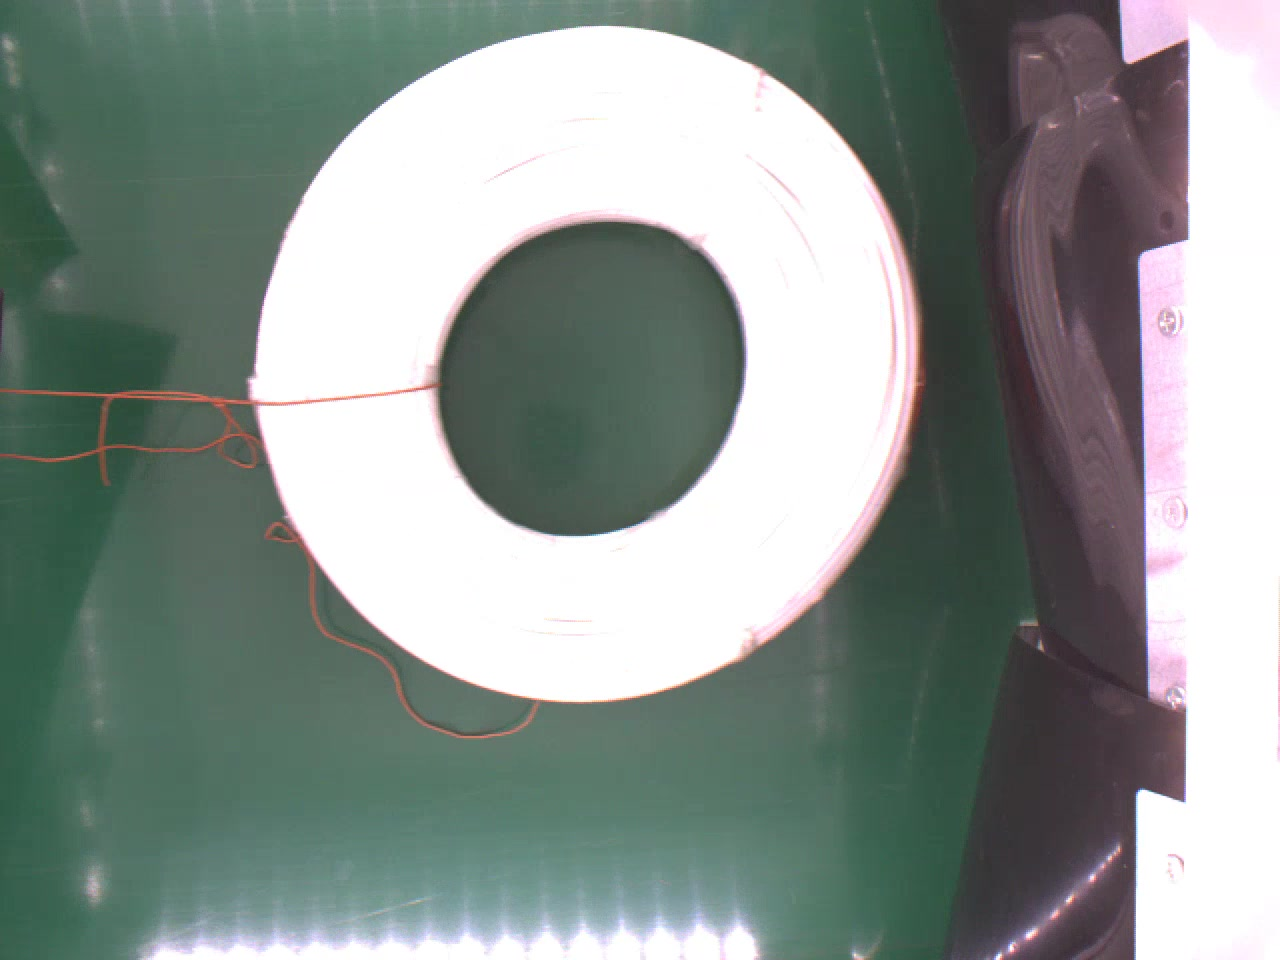white: (241, 23, 927, 709)
